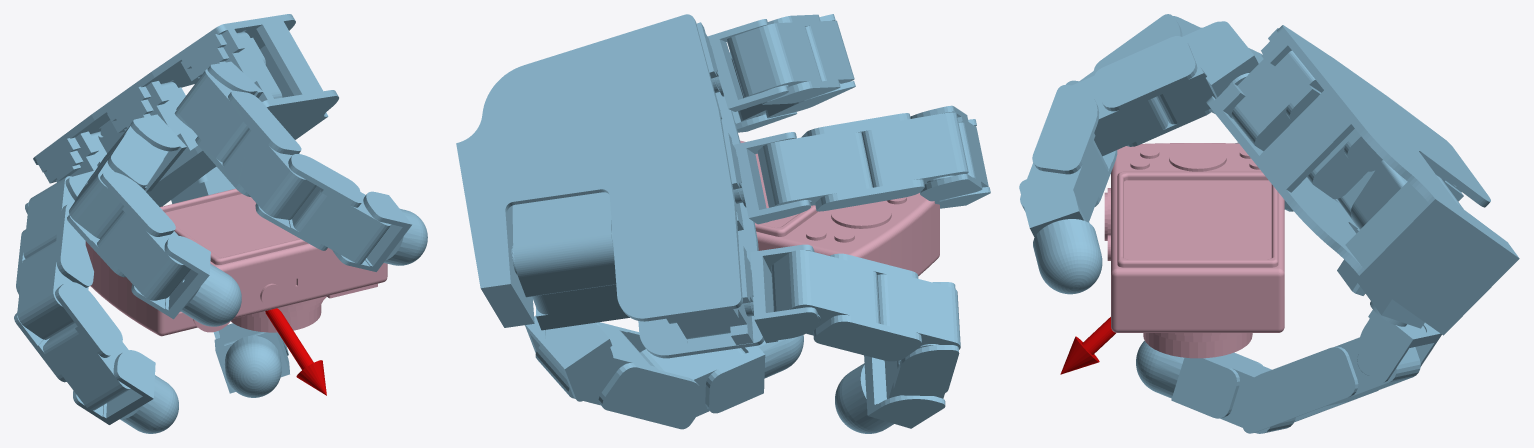
3 renders of one model, left to right at view 1: azimuth 30°, elevation 25°; view 2: azimuth 150°, elevation 25°; view 3: azimuth 270°, elevation 25°, orthographic. The views are drawn at different scales.
Parts seen in each view (by area): view 1: world, camera.stl; view 2: world, camera.stl; view 3: world, camera.stl.
Part boxes in pixels (x1,y1,x2,y2): world: (14,14,427,433); camera.stl: (85,188,387,336); world: (456,14,990,433); camera.stl: (740,140,939,275); world: (1019,14,1519,433); camera.stl: (1104,143,1284,358).
Bounding box in the file's own units: 0.1753 × 0.1644 × 0.1865.
